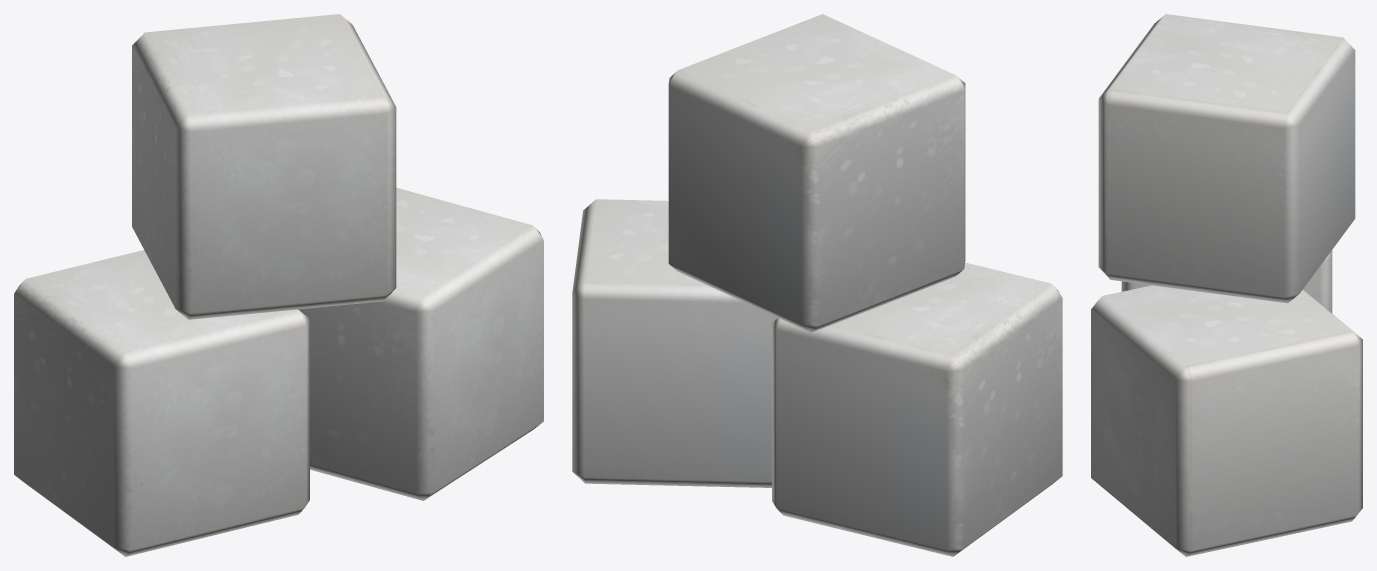
The model's file is sugarcubestack.fbx.
3 renders of one model, left to right at view 1: azimuth 30°, elevation 25°; view 2: azimuth 150°, elevation 25°; view 3: azimuth 270°, elevation 25°, orthographic. The views are drawn at different scales.
Visible parts, largest first — view 1: Cube.008, sugarcubestack, Cube.007; view 2: Cube.008, sugarcubestack, Cube.007; view 3: Cube.008, Cube.007, sugarcubestack.
Boxes of the visible parts, x1,y1,x2,y2 form: Cube.008: (132, 14, 396, 319); sugarcubestack: (14, 250, 309, 556); Cube.007: (298, 187, 543, 500); Cube.008: (668, 14, 965, 332); sugarcubestack: (772, 262, 1062, 556); Cube.007: (572, 199, 777, 487); Cube.008: (1098, 14, 1355, 303); Cube.007: (1091, 285, 1362, 556); sugarcubestack: (1121, 250, 1332, 313).
Size of the model in its own units: 11.35 by 9.73 by 6.28.
